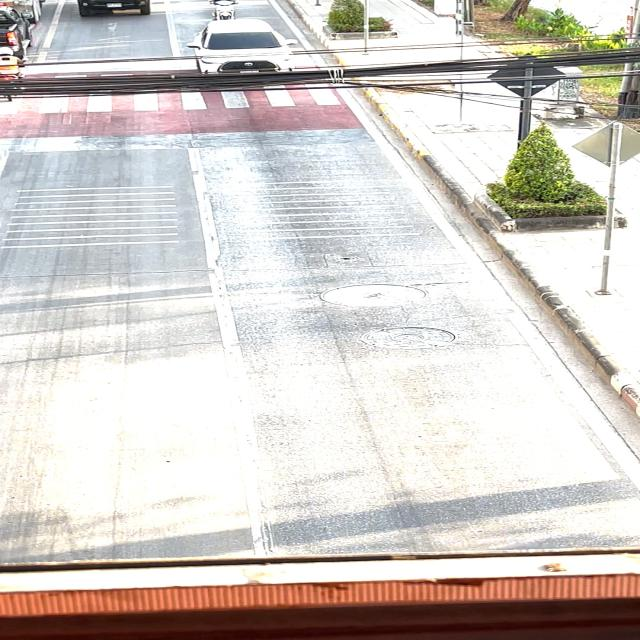car: (188, 13, 308, 82)
